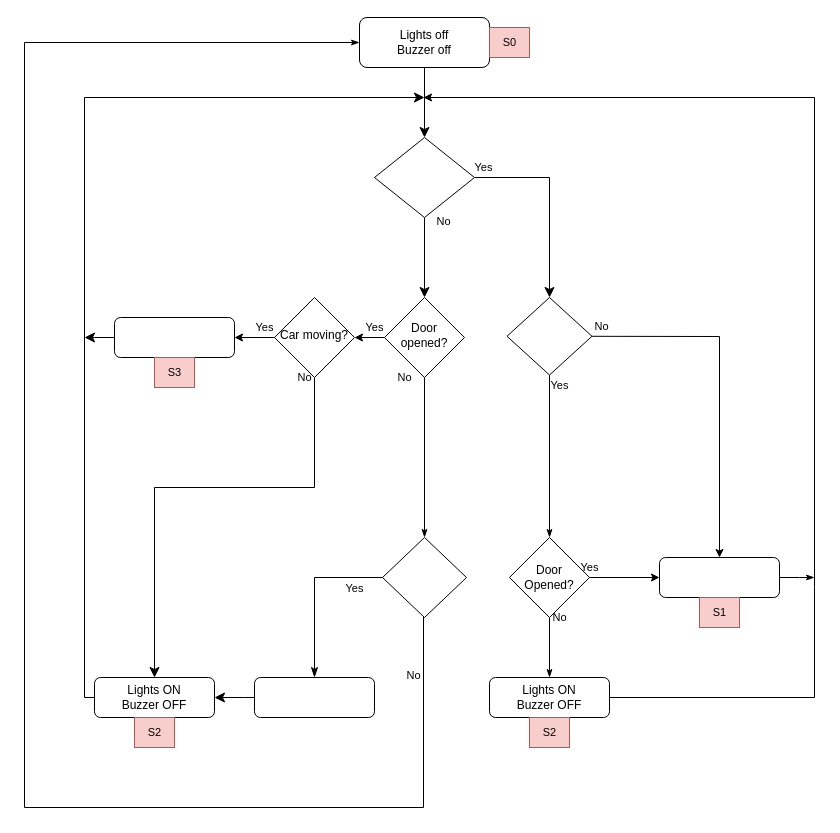
Image size: 840x833. Some labels were removed from this diagram. Here are the shapes that lost their labels. From the top down, the centre of each, then its label:
At (424,177): "Light Switch Pressed?".
At (174,337): "Lights Off Buzzer ON".
At (549,335): "Car moving".
At (424,577): "Lights On?".
At (719,577): "Lights ON Buzzer On".
At (314,697): "Turn off Lights after Three Seconds".
